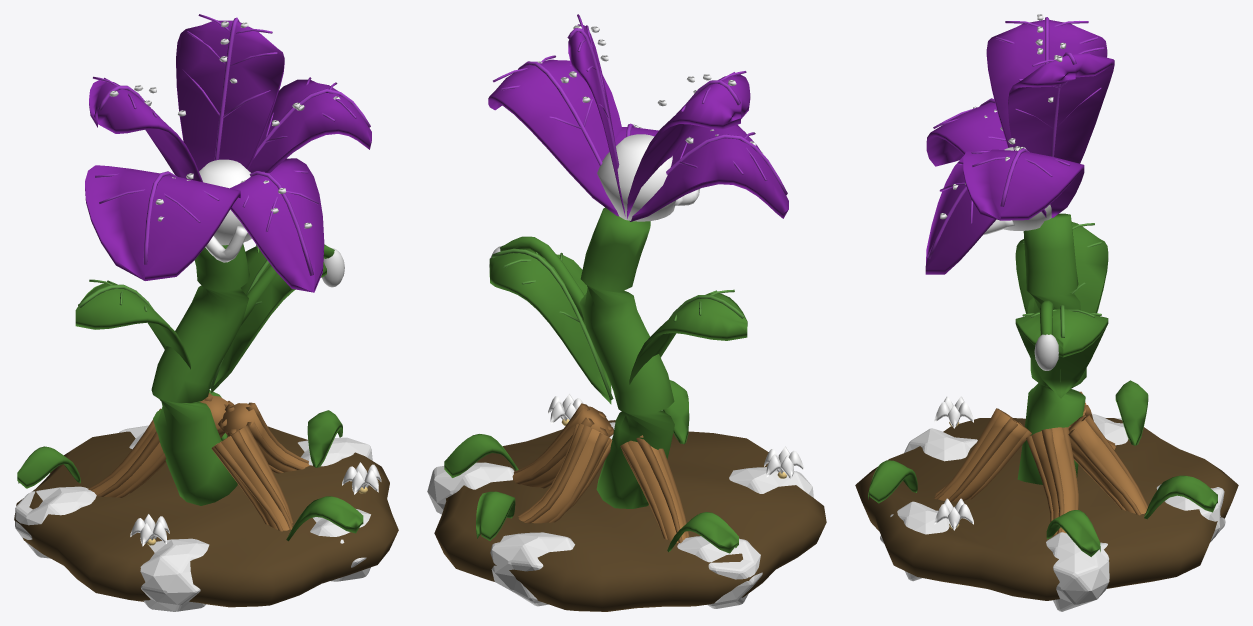
File: orchid-1.fbx
3 renders of one model, left to right at view 1: azimuth 30°, elevation 25°; view 2: azimuth 150°, elevation 25°; view 3: azimuth 270°, elevation 25°, orthographic. The views are drawn at different scales.
Visible parts, largest first — view 1: Petals_Petal, orchid-1_Organic, Turret_PortalBamboo, orchid-1_Bark, orchid-1_Stone, orchid-1_PortalBamboo, OrchidThroat, orchid-1_Petal, Petals_Organic, Barrel_Organic, VenomDrop; view 2: orchid-1_Organic, Turret_PortalBamboo, Petals_Petal, orchid-1_Bark, orchid-1_Stone, orchid-1_PortalBamboo, OrchidThroat, orchid-1_Petal, Petals_Organic; view 3: orchid-1_Organic, Petals_Petal, Turret_PortalBamboo, orchid-1_Bark, orchid-1_Stone, orchid-1_PortalBamboo, orchid-1_Petal, VenomDrop, OrchidThroat.
Boxes of the visible parts, bbox=[...] form: Petals_Petal: bbox=[85, 14, 371, 292]; orchid-1_Organic: bbox=[14, 426, 398, 607]; Turret_PortalBamboo: bbox=[75, 244, 334, 505]; orchid-1_Bark: bbox=[88, 393, 309, 531]; orchid-1_Stone: bbox=[15, 425, 372, 611]; orchid-1_PortalBamboo: bbox=[17, 390, 363, 541]; OrchidThroat: bbox=[199, 159, 251, 245]; orchid-1_Petal: bbox=[130, 462, 381, 546]; Petals_Organic: bbox=[109, 21, 340, 228]; Barrel_Organic: bbox=[205, 225, 247, 262]; VenomDrop: bbox=[321, 248, 344, 287]; orchid-1_Organic: bbox=[434, 419, 826, 611]; Turret_PortalBamboo: bbox=[489, 207, 747, 508]; Petals_Petal: bbox=[488, 14, 788, 221]; orchid-1_Bark: bbox=[512, 403, 689, 543]; orchid-1_Stone: bbox=[427, 422, 813, 608]; orchid-1_PortalBamboo: bbox=[444, 380, 738, 553]; OrchidThroat: bbox=[597, 134, 676, 221]; orchid-1_Petal: bbox=[548, 394, 804, 479]; Petals_Organic: bbox=[537, 25, 763, 154]; orchid-1_Organic: bbox=[855, 418, 1238, 600]; Petals_Petal: bbox=[925, 17, 1114, 274]; Turret_PortalBamboo: bbox=[1015, 213, 1108, 484]; orchid-1_Bark: bbox=[934, 391, 1147, 535]; orchid-1_Stone: bbox=[880, 413, 1225, 611]; orchid-1_PortalBamboo: bbox=[868, 380, 1217, 556]; orchid-1_Petal: bbox=[934, 396, 973, 530]; VenomDrop: bbox=[1034, 334, 1058, 370]; OrchidThroat: bbox=[1003, 147, 1051, 230].
Size of the model in its own units: 82.07 by 121 by 82.7.
